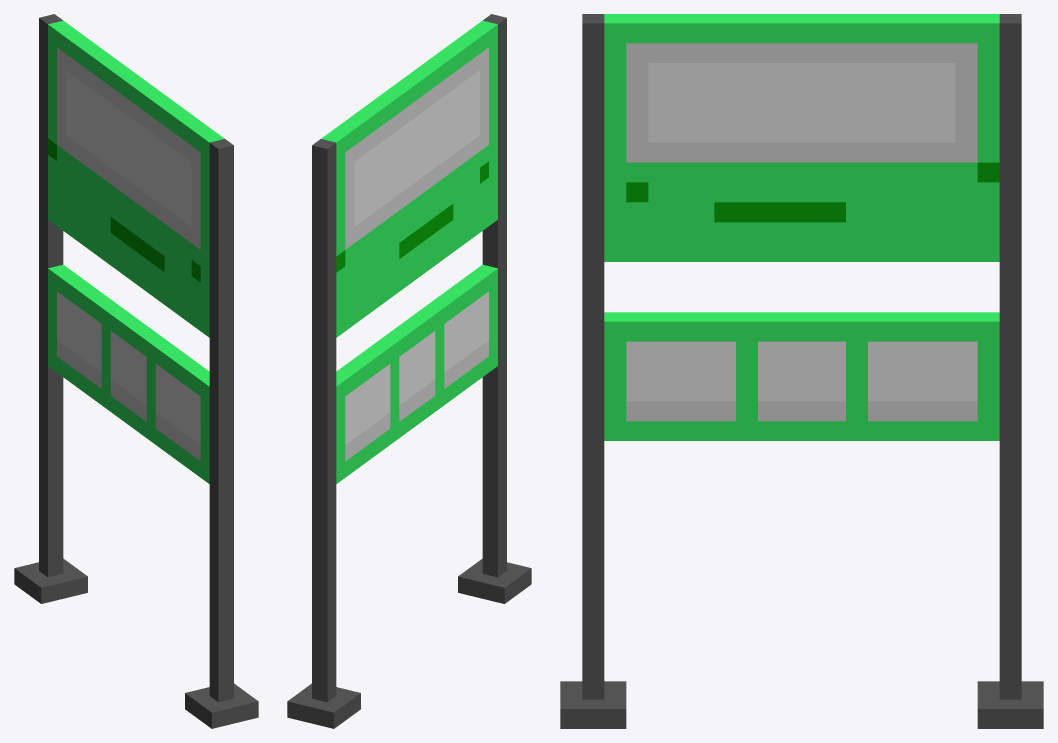
Rendered from squareSign.glb.
The picture shows the model from 3 angles, left to right: view 1: azimuth 30°, elevation 25°; view 2: azimuth 150°, elevation 25°; view 3: azimuth 270°, elevation 25°; orthographic projection. The views are drawn at different scales.
Visible parts, largest first — view 1: ObjObject; view 2: ObjObject; view 3: ObjObject.
Part boxes in pixels (x1,y1,x2,y2): ObjObject: [14, 14, 258, 728]; ObjObject: [287, 14, 531, 728]; ObjObject: [560, 14, 1043, 728].
Size of the model in its own units: 0.3 by 3.5 by 2.2.
1 material, 1 textured.
